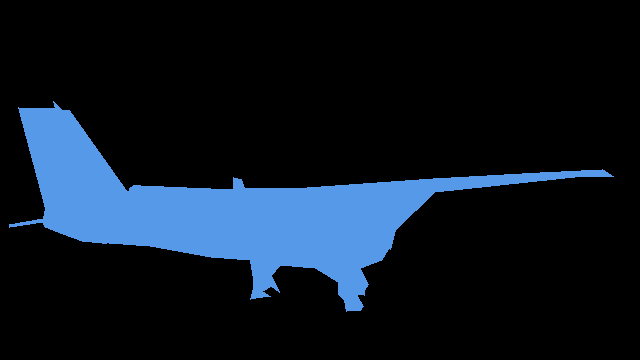Airplane: (9, 101, 614, 311)
